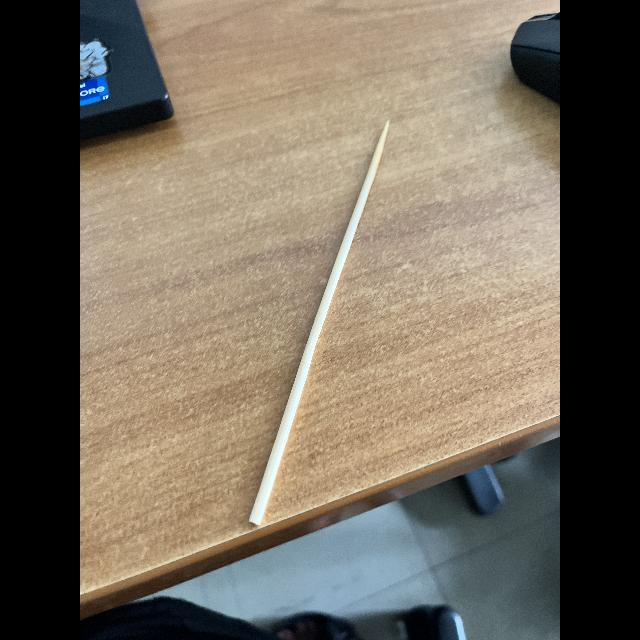stick: (226, 107, 424, 549)
